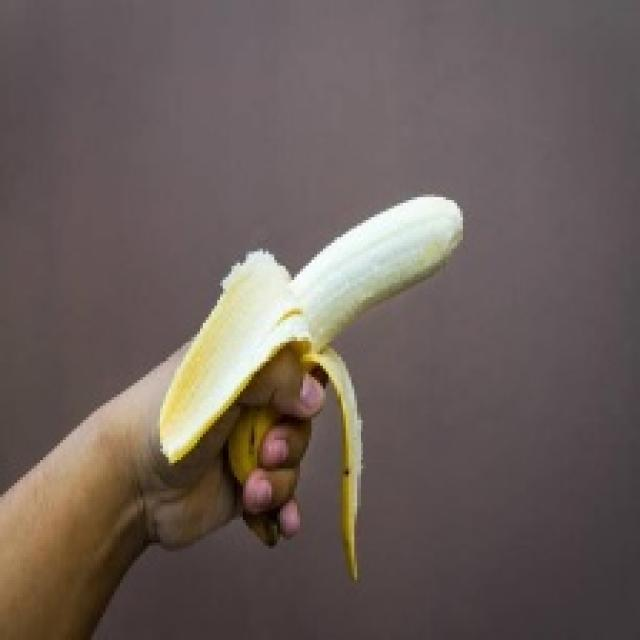Banana: (157, 191, 463, 580)
